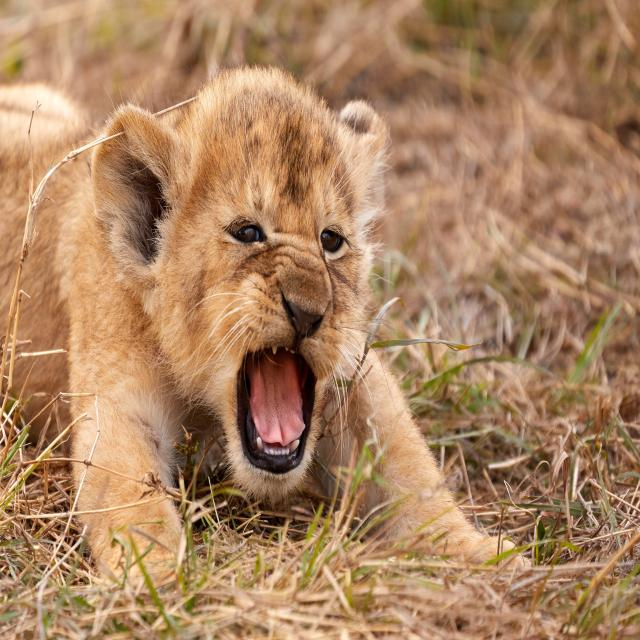Lion: (1, 64, 523, 595)
